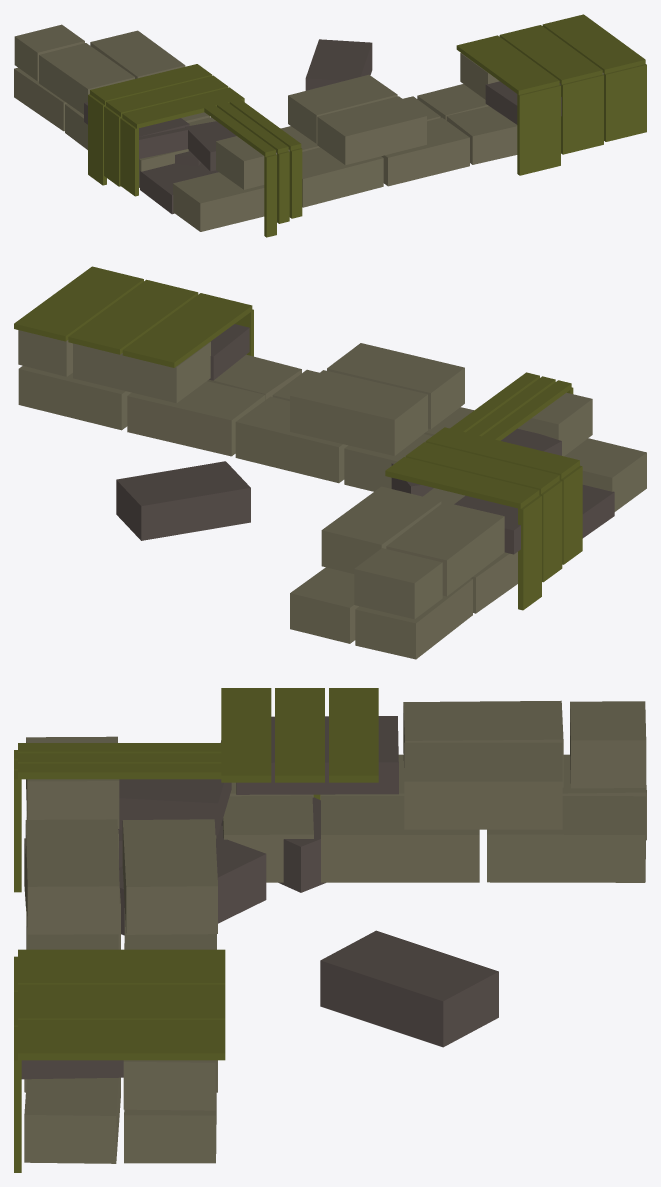
The model's file is SM_PretilEsquinaPaso_v4_Red_e2_MuyDanado_LOD0.fbx.
3 renders of one model, top to bottom at view 1: azimuth 30°, elevation 25°; view 2: azimuth 150°, elevation 25°; view 3: azimuth 270°, elevation 25°, orthographic. The views are drawn at different scales.
Parts seen in each view (by area): view 1: SM_pretil_azotea_v58_LOD0; view 2: SM_pretil_azotea_v58_LOD0; view 3: SM_pretil_azotea_v58_LOD0.
Part boxes in pixels (x1=…): SM_pretil_azotea_v58_LOD0: x1=14, y1=14, x2=646, y2=237; SM_pretil_azotea_v58_LOD0: x1=14, y1=266, x2=646, y2=659; SM_pretil_azotea_v58_LOD0: x1=14, y1=688, x2=646, y2=1172.
Bounding box in the file's own units: 4.44 × 0.7939 × 3.24.
